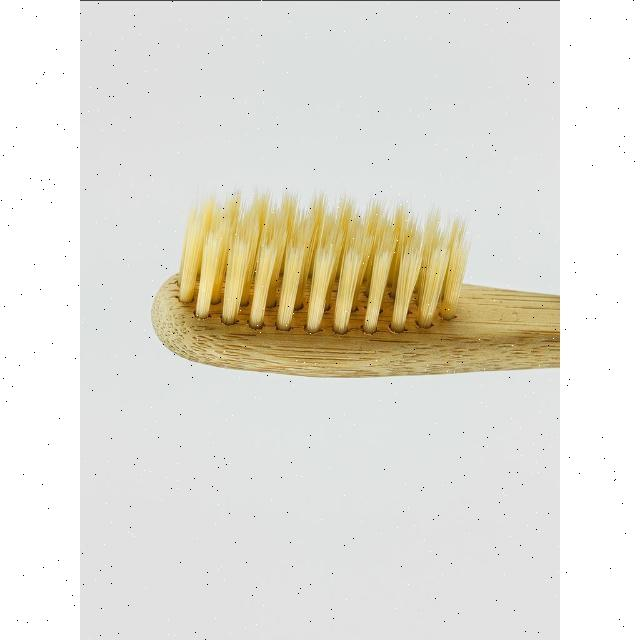toothbrush: (128, 176, 560, 464)
